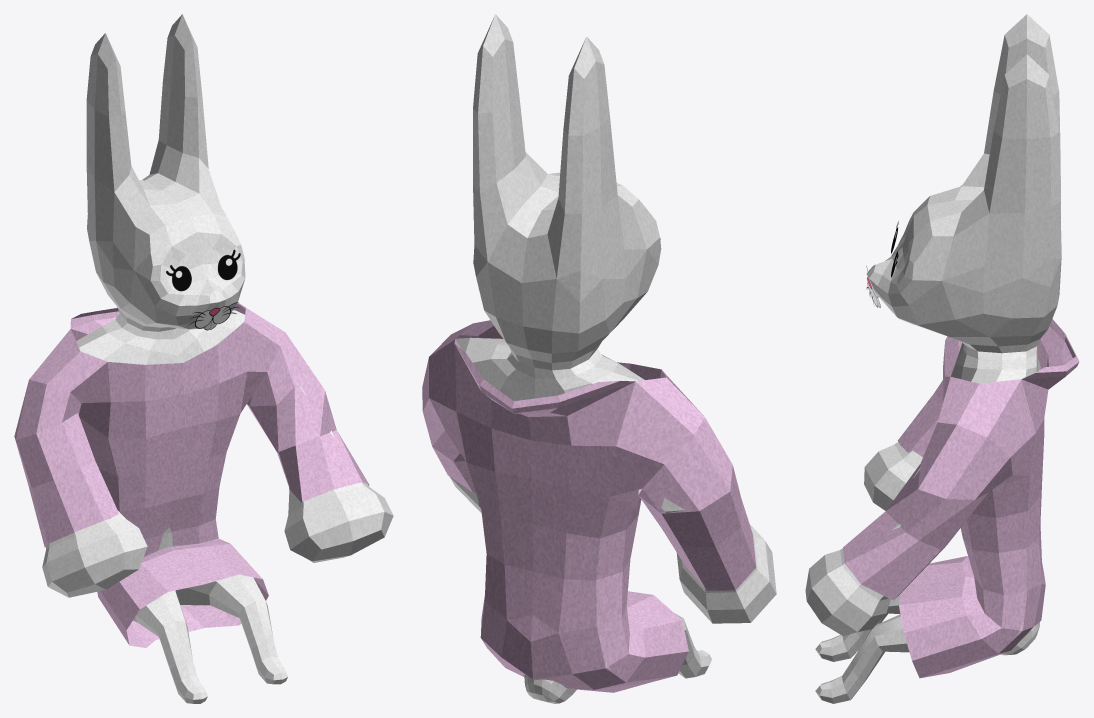
The model's file is Conejo.glb.
3 views of the same model, side by side, from view 1: azimuth 30°, elevation 25°; view 2: azimuth 150°, elevation 25°; view 3: azimuth 270°, elevation 25° (orthographic). The views are drawn at different scales.
Parts seen in each view (by area): view 1: Cube_002, Plane, Plane.003; view 2: Cube_002; view 3: Cube_002.
Part boxes in pixels (x1,y1,x2,y2): Cube_002: [14, 14, 393, 703]; Plane: [166, 249, 240, 291]; Plane.003: [188, 302, 239, 330]; Cube_002: [422, 14, 776, 703]; Cube_002: [805, 14, 1079, 703].
Size of the model in its own units: 1.91 by 3.64 by 1.39.
Materials: 4 (4 with a texture image).
